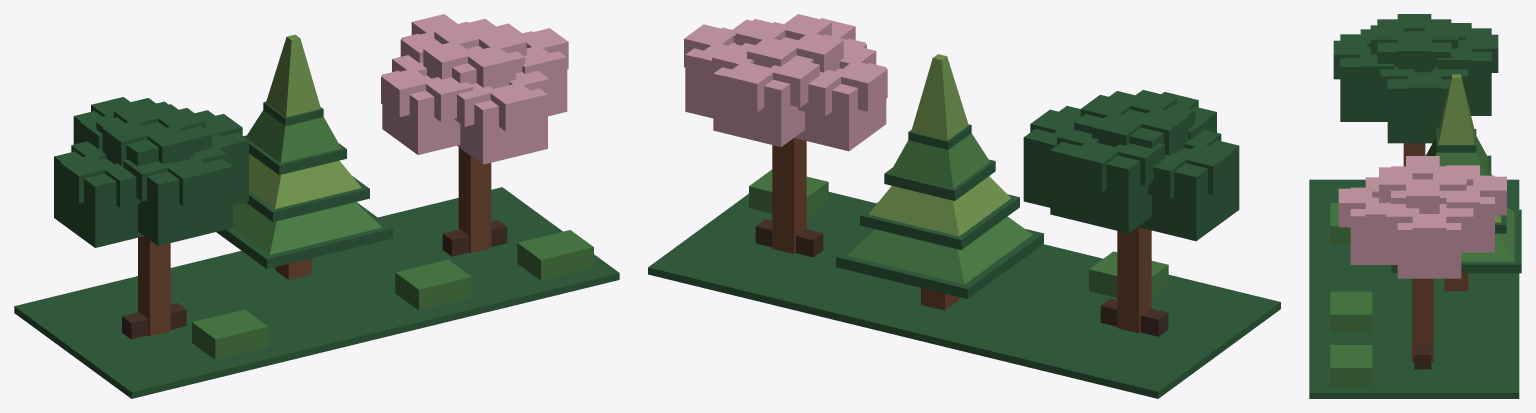
File: Blockland_BlockGrove_Standard.glb
3 renders of one model, left to right at view 1: azimuth 30°, elevation 25°; view 2: azimuth 150°, elevation 25°; view 3: azimuth 270°, elevation 25°, orthographic. The views are drawn at different scales.
Parts seen in each view (by area): view 1: Blockland_BlockGrove_Standard; view 2: Blockland_BlockGrove_Standard; view 3: Blockland_BlockGrove_Standard.
Part boxes in pixels (box(x1,y1,x2,y2)): Blockland_BlockGrove_Standard: box(14, 14, 619, 398); Blockland_BlockGrove_Standard: box(648, 14, 1280, 398); Blockland_BlockGrove_Standard: box(1309, 14, 1521, 398).
Size of the model in its own units: 12.24 by 5.68 by 5.05.
